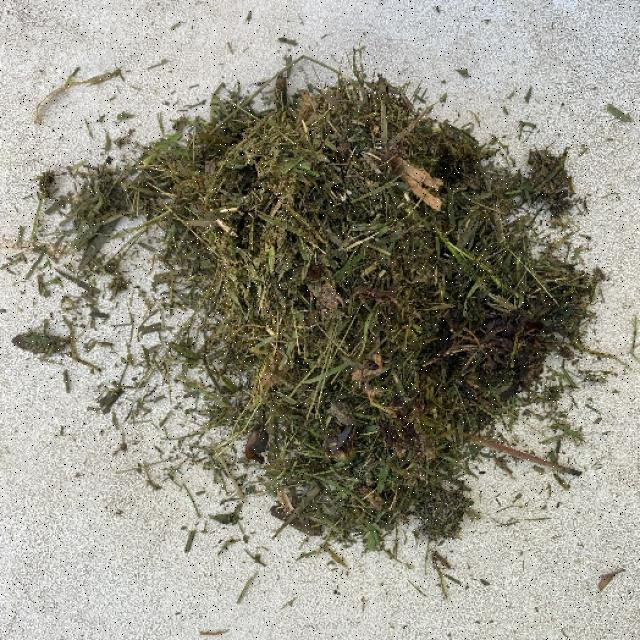organik: (104, 51, 570, 565)
